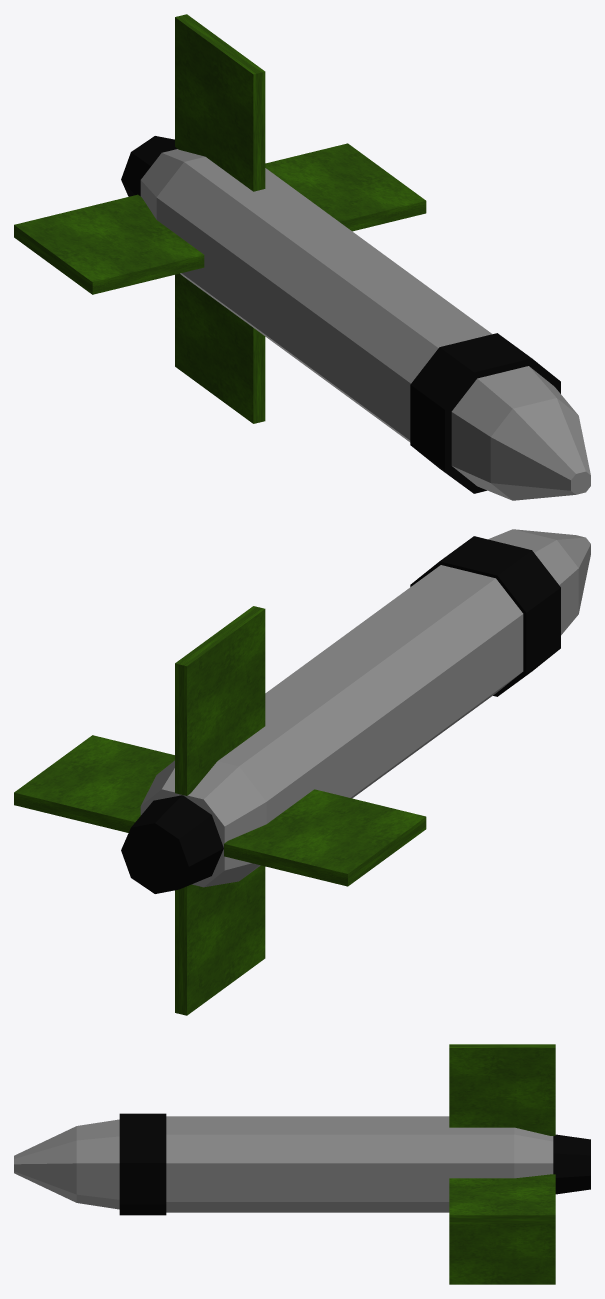
Rendered from rocket.obj.
3 views of the same model, one above another, from view 1: azimuth 30°, elevation 25°; view 2: azimuth 150°, elevation 25°; view 3: azimuth 270°, elevation 25° (orthographic). The views are drawn at different scales.
Parts seen in each view (by area): view 1: rocket; view 2: rocket; view 3: rocket.
Part boxes in pixels (x1,y1,x2,y2): rocket: (14, 14, 590, 500); rocket: (14, 529, 590, 1015); rocket: (14, 1044, 590, 1284).
Bounding box in the file's own units: 3.34 × 3.34 × 7.38.
